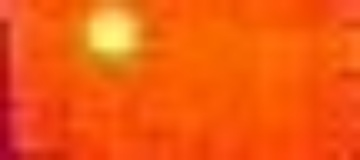Hotspot: (86, 7, 142, 59)
